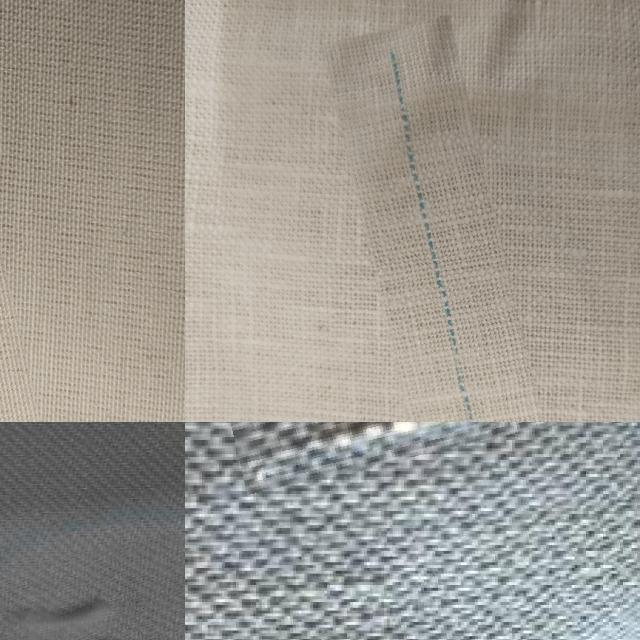stains: (351, 17, 545, 422), (233, 422, 631, 473), (4, 538, 185, 640)
